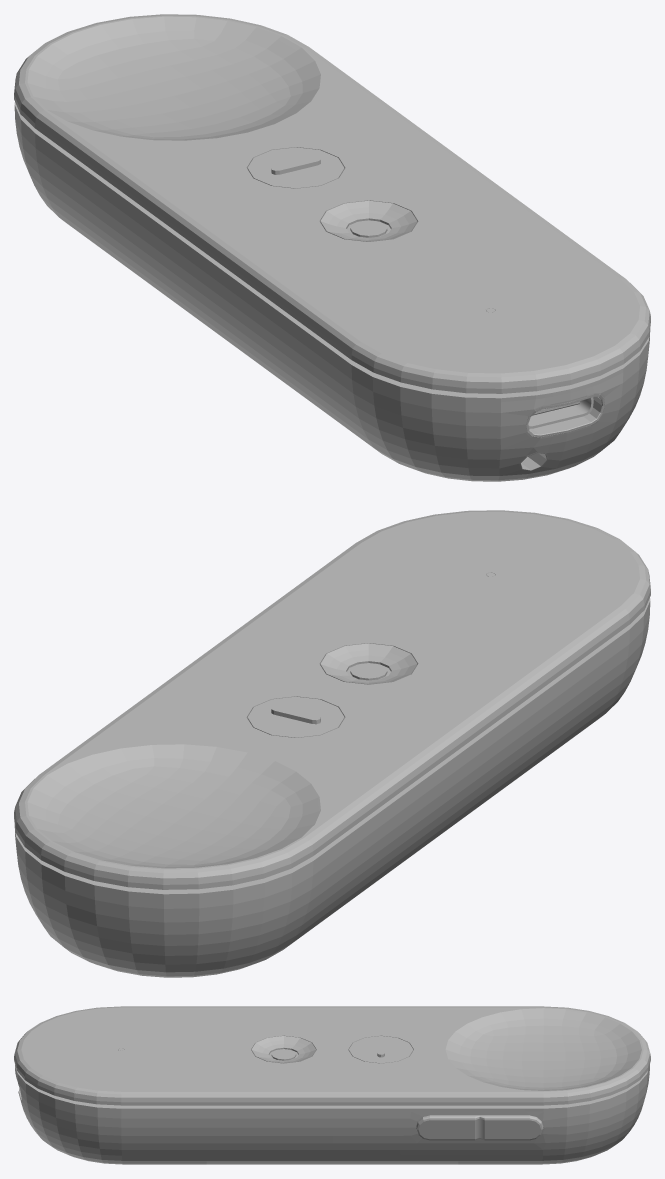
The model's file is DayDream_Controller.obj.
3 views of the same model, one above another, from view 1: azimuth 30°, elevation 25°; view 2: azimuth 150°, elevation 25°; view 3: azimuth 270°, elevation 25° (orthographic). The views are drawn at different scales.
Parts seen in each view (by area): view 1: Controller; view 2: Controller; view 3: Controller.
Part boxes in pixels (bbox=[...]): Controller: bbox=[14, 14, 650, 481]; Controller: bbox=[14, 510, 650, 977]; Controller: bbox=[14, 1006, 650, 1164].
Bounding box in the file's own units: 36.52 × 16.38 × 107.
